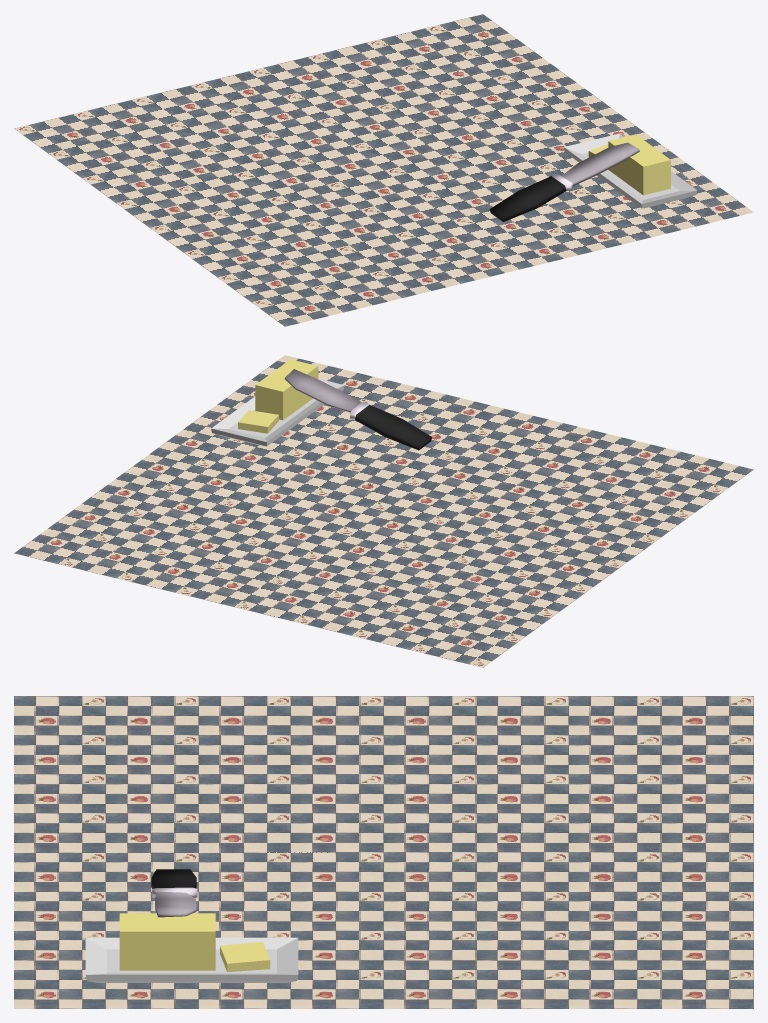
File: checkerboard_test.fbx
The picture shows the model from 3 angles, top to bottom: view 1: azimuth 30°, elevation 25°; view 2: azimuth 150°, elevation 25°; view 3: azimuth 270°, elevation 25°; orthographic projection. The views are drawn at different scales.
Parts seen in each view (by area): view 1: Knife; view 2: Knife; view 3: Knife.
Boxes of the visible parts, x1,y1,x2,y2 form: Knife: (14, 14, 753, 326); Knife: (14, 355, 753, 667); Knife: (14, 696, 753, 1008).
Bounding box in the file's own units: 128 × 10.41 × 128.
Materials: 6 (1 with a texture image).
